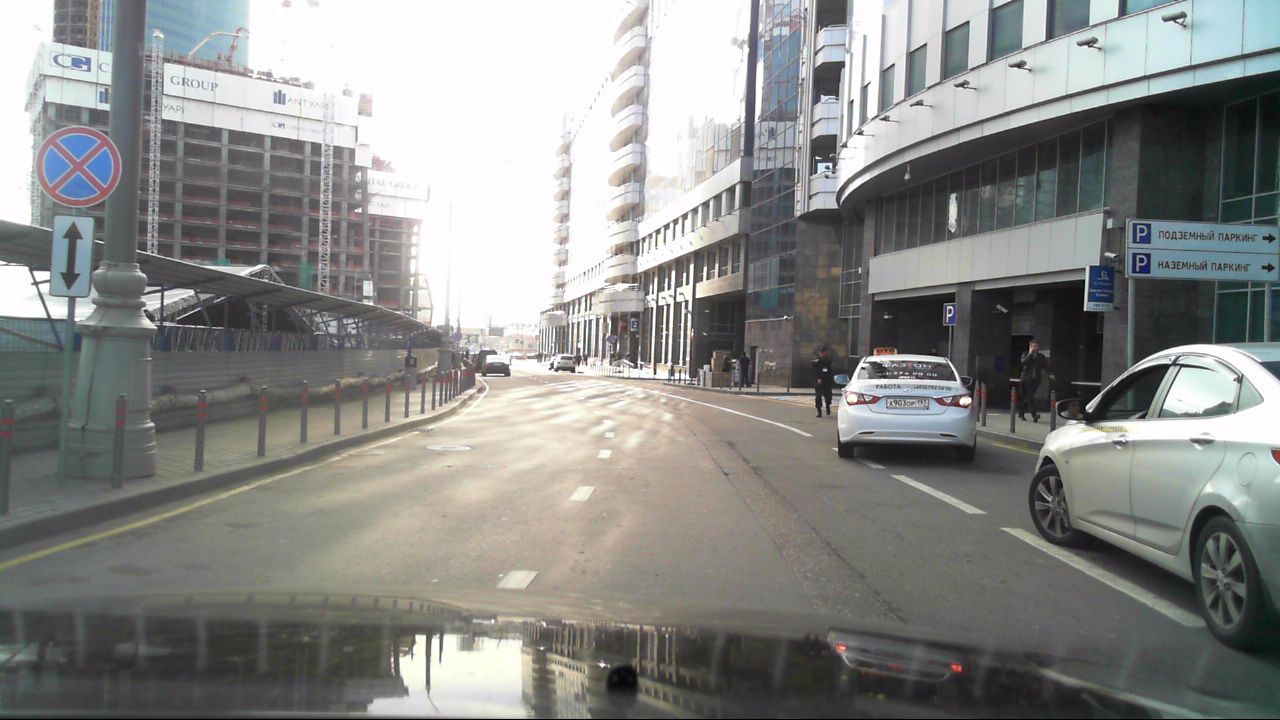No Parking: (33, 126, 121, 210)
